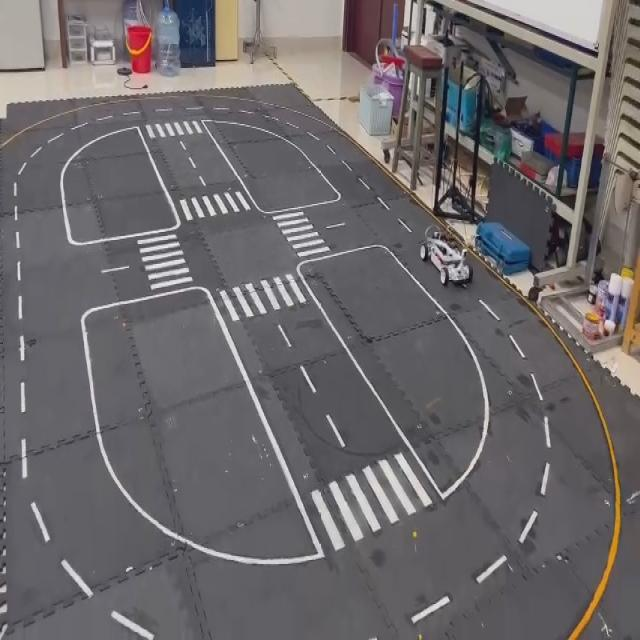SiCo-CAR: (419, 223, 473, 288)
